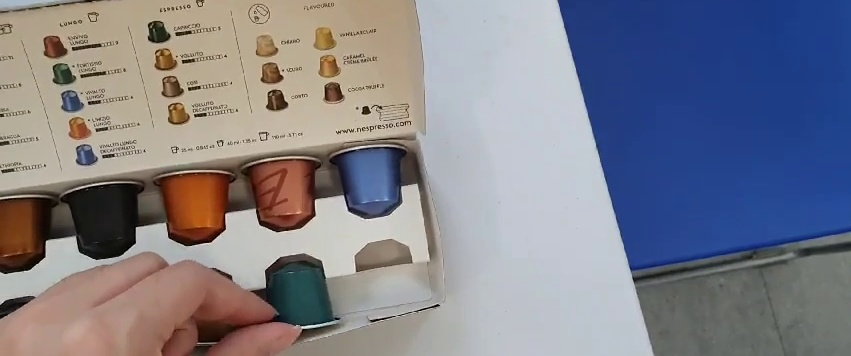capsule_13: (261, 258, 343, 334)
